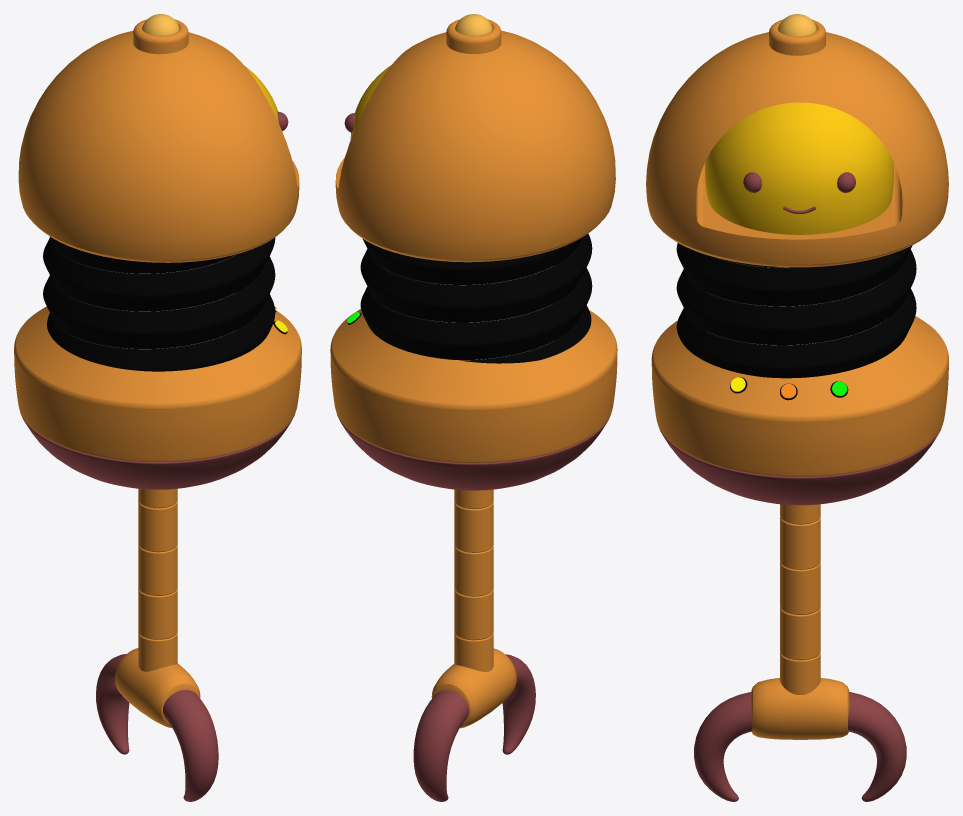
The model's file is Gold.glb.
The picture shows the model from 3 angles, left to right: view 1: azimuth 30°, elevation 25°; view 2: azimuth 150°, elevation 25°; view 3: azimuth 270°, elevation 25°; orthographic projection. The views are drawn at different scales.
Parts seen in each view (by area): view 1: Gold; view 2: Gold; view 3: Gold.
Boxes of the visible parts, box(x1,y1,x2,y2) form: Gold: box(14, 14, 301, 801); Gold: box(330, 14, 617, 801); Gold: box(646, 14, 948, 801).
Size of the model in its own units: 0.7671 by 2.24 by 0.7818.
Materials: 1 (1 with a texture image).
